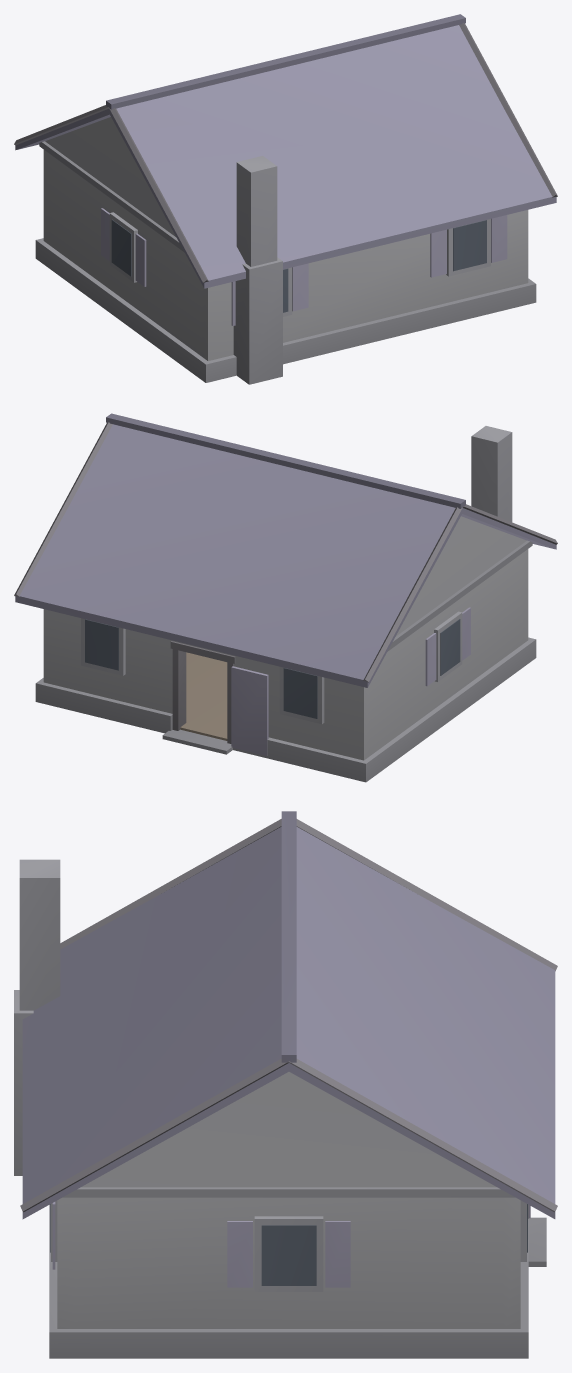
Rendered from open_house_storm.gltf.
3 views of the same model, one above another, from view 1: azimuth 30°, elevation 25°; view 2: azimuth 150°, elevation 25°; view 3: azimuth 270°, elevation 25° (orthographic). The views are drawn at different scales.
Parts seen in each view (by area): view 1: Body; view 2: Body; view 3: Body.
Boxes of the visible parts, left/top/right/bottom form: Body: left=14, top=14, right=557, bottom=384; Body: left=14, top=413, right=557, bottom=782; Body: left=14, top=811, right=557, bottom=1358.
Size of the model in its own units: 9.97 by 5.94 by 9.39.
